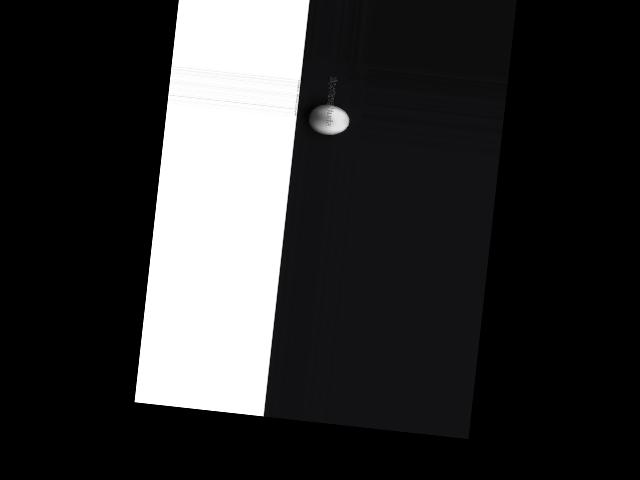egg: (307, 103, 351, 137)
